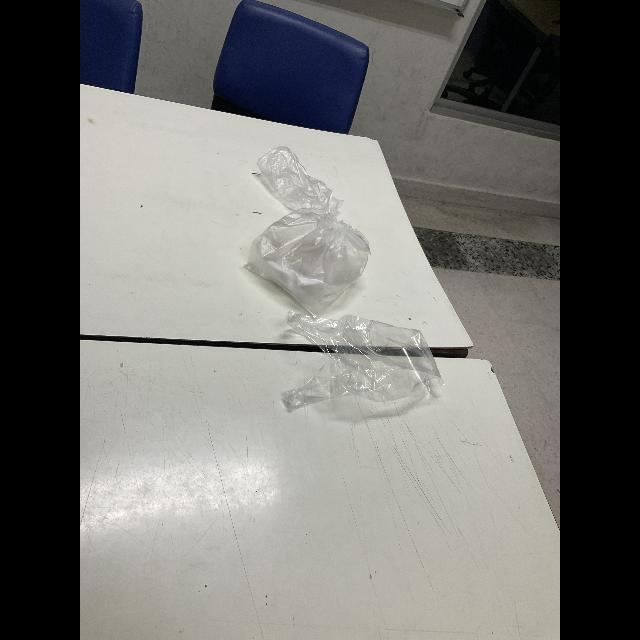plastic_bag: (251, 306, 444, 409), (236, 207, 378, 311)
scrap_plastic: (253, 145, 349, 213)
